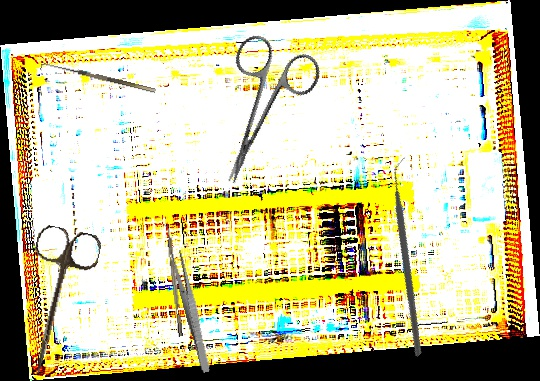Chopper: (313, 155, 510, 358), (161, 223, 183, 338)
Dressing Forceps: (169, 249, 214, 374)
Hook Surgical: (40, 60, 156, 99)
Iris Scissors: (188, 29, 326, 199), (9, 223, 104, 381)
